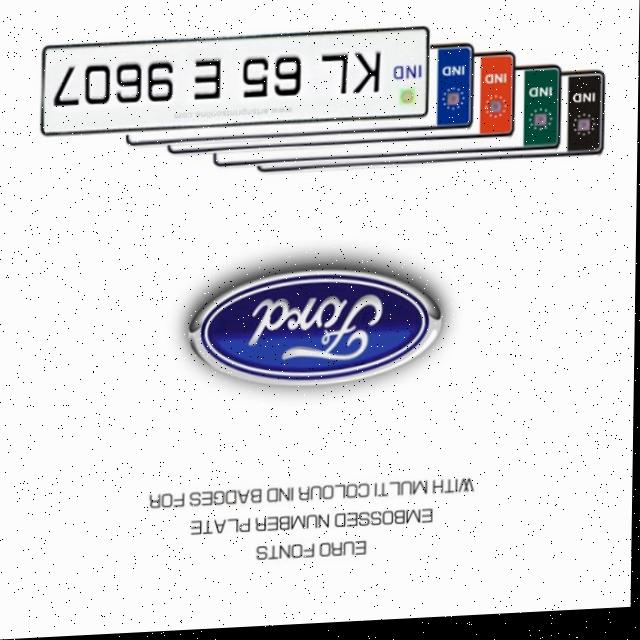plate: (42, 35, 432, 136)
